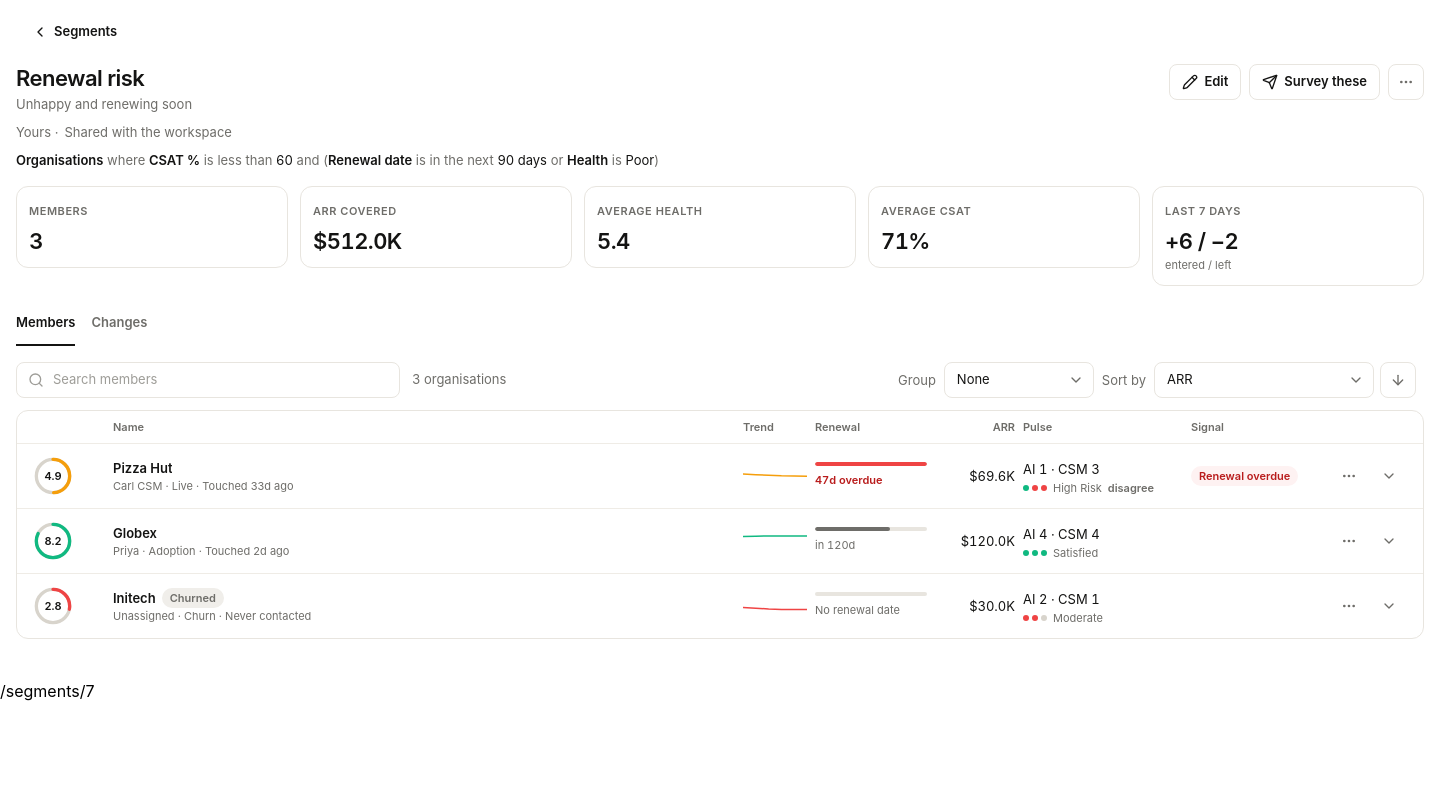
it: Survey these (spec §2.5) › opens the New survey modal over the segment with that segment chosen, counts it, and Cancel returns to it
The image size is (1440, 810).
Click the link "Survey these": (1315, 82) [1249,64,1380,100]
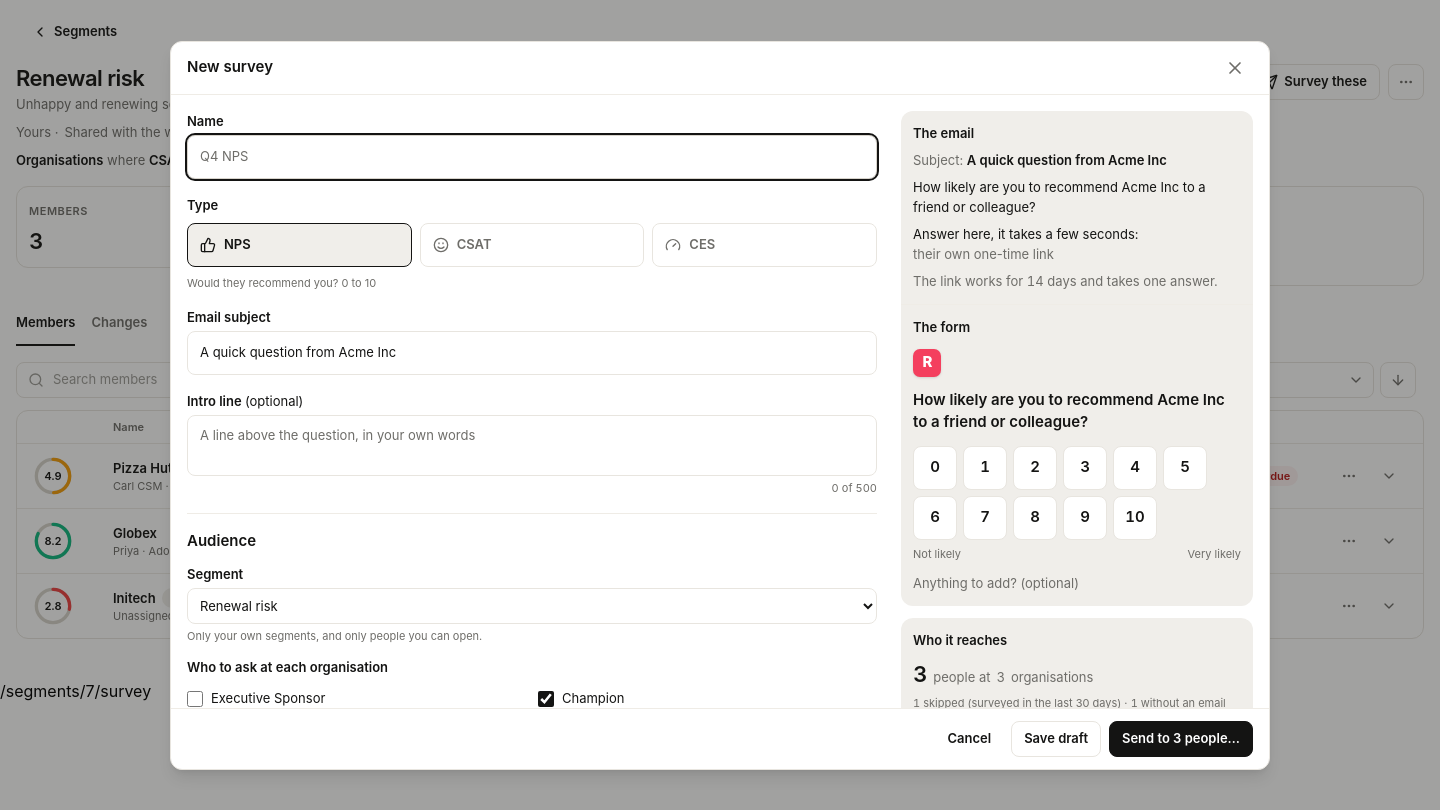
expect the text with test id "where" reads "/segments/7/survey": met, box [0,681,151,701]
expect the dropdown labelled "Segment" shows "Renewal risk": met, box [187,588,877,624]
expect the checkbox labelled "Champion" is checked: met, box [538,690,554,706]
Click the button "Cancel": (969, 738) [936,720,1003,756]
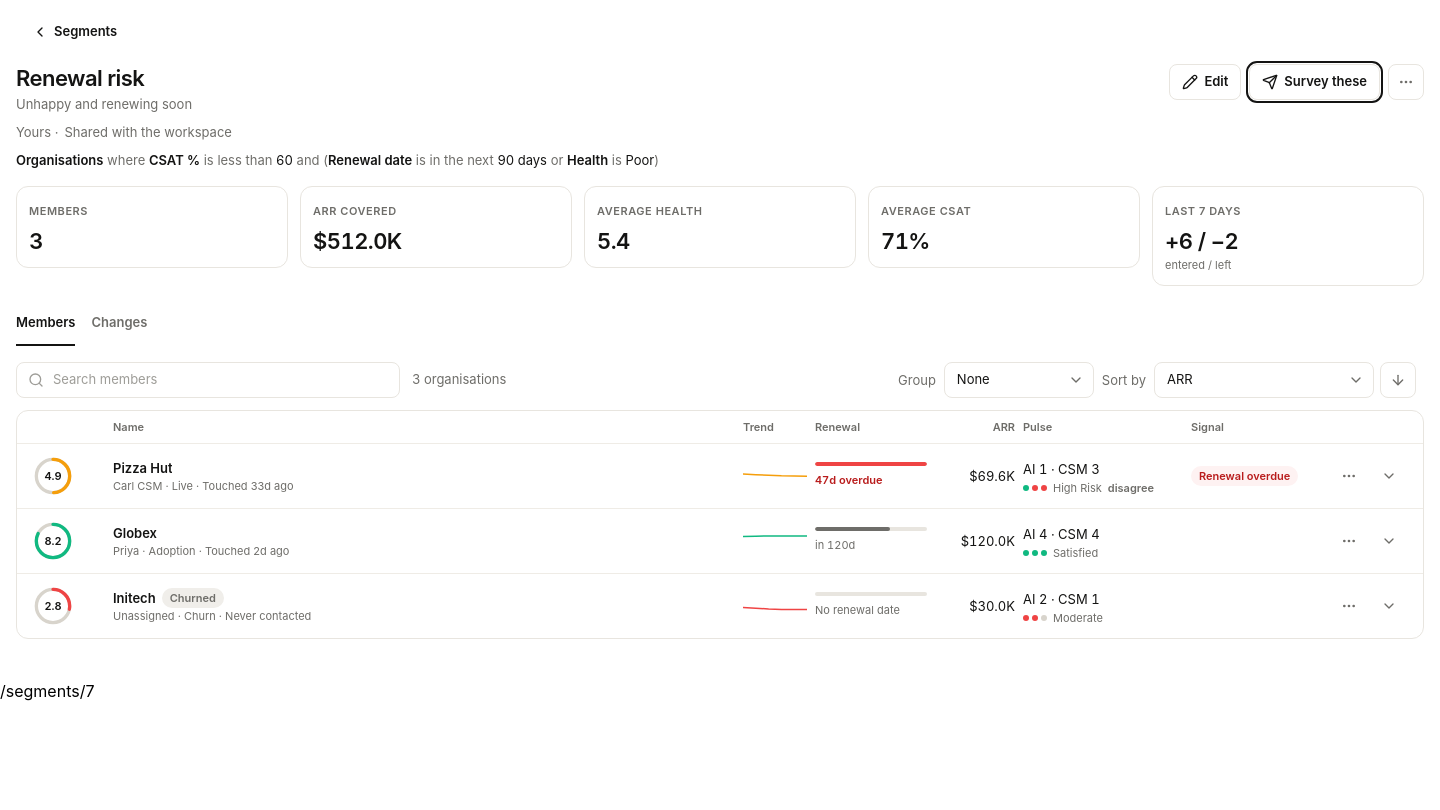
expect the text with test id "where" reads "/segments/7": met, box [0,681,94,701]
